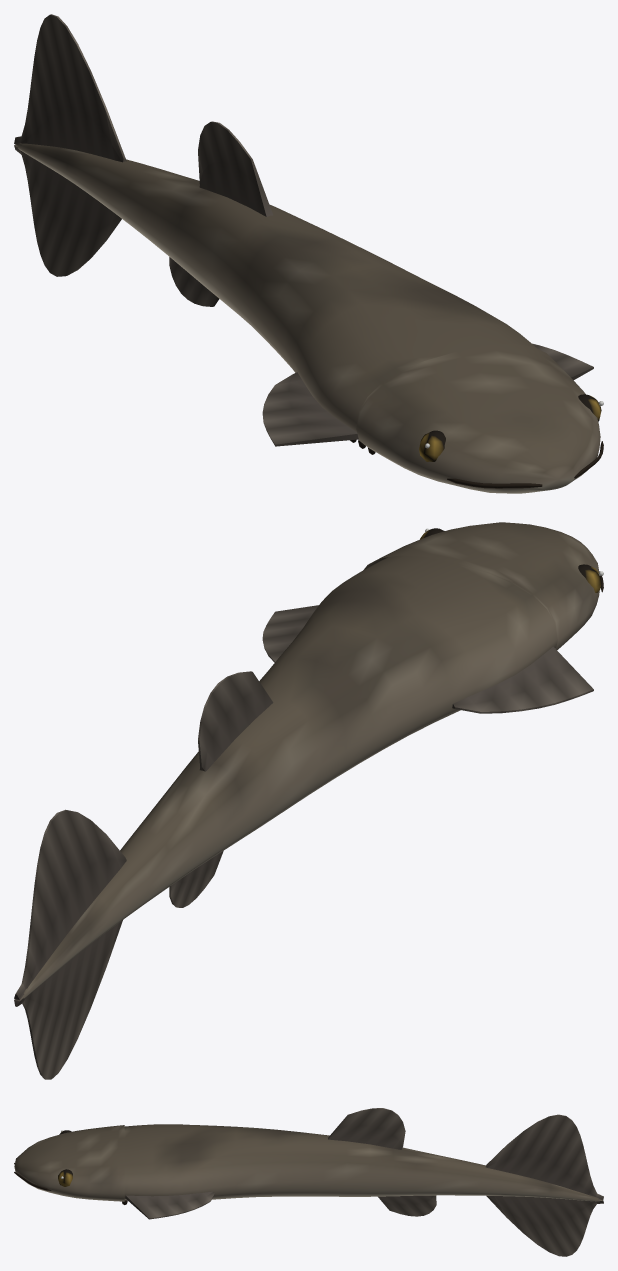
The model's file is LoganelliaScotica.fbx.
3 renders of one model, top to bottom at view 1: azimuth 30°, elevation 25°; view 2: azimuth 150°, elevation 25°; view 3: azimuth 270°, elevation 25°, orthographic. The views are drawn at different scales.
Visible parts, largest first — view 1: LoganelliaScotica; view 2: LoganelliaScotica; view 3: LoganelliaScotica.
Boxes of the visible parts, x1,y1,x2,y2 form: LoganelliaScotica: (14,14,603,493); LoganelliaScotica: (14,522,603,1079); LoganelliaScotica: (14,1108,603,1256).
Size of the model in its own units: 0.5437 by 0.4445 by 1.6.
